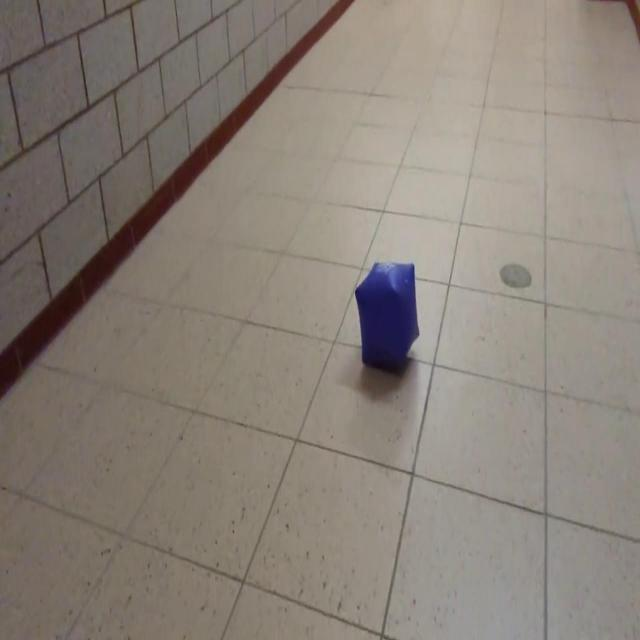frc_cube: (355, 256, 419, 377)
